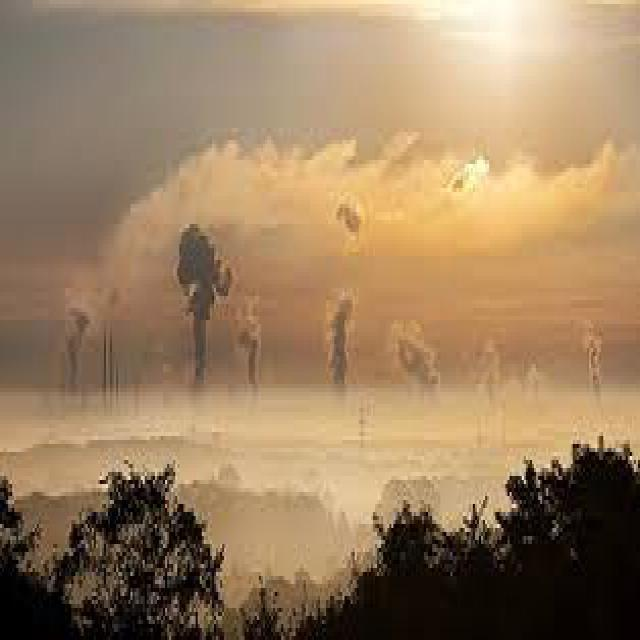Smoke: (168, 226, 246, 306), (320, 291, 361, 389), (392, 324, 441, 376), (572, 323, 611, 372), (60, 296, 96, 348)
